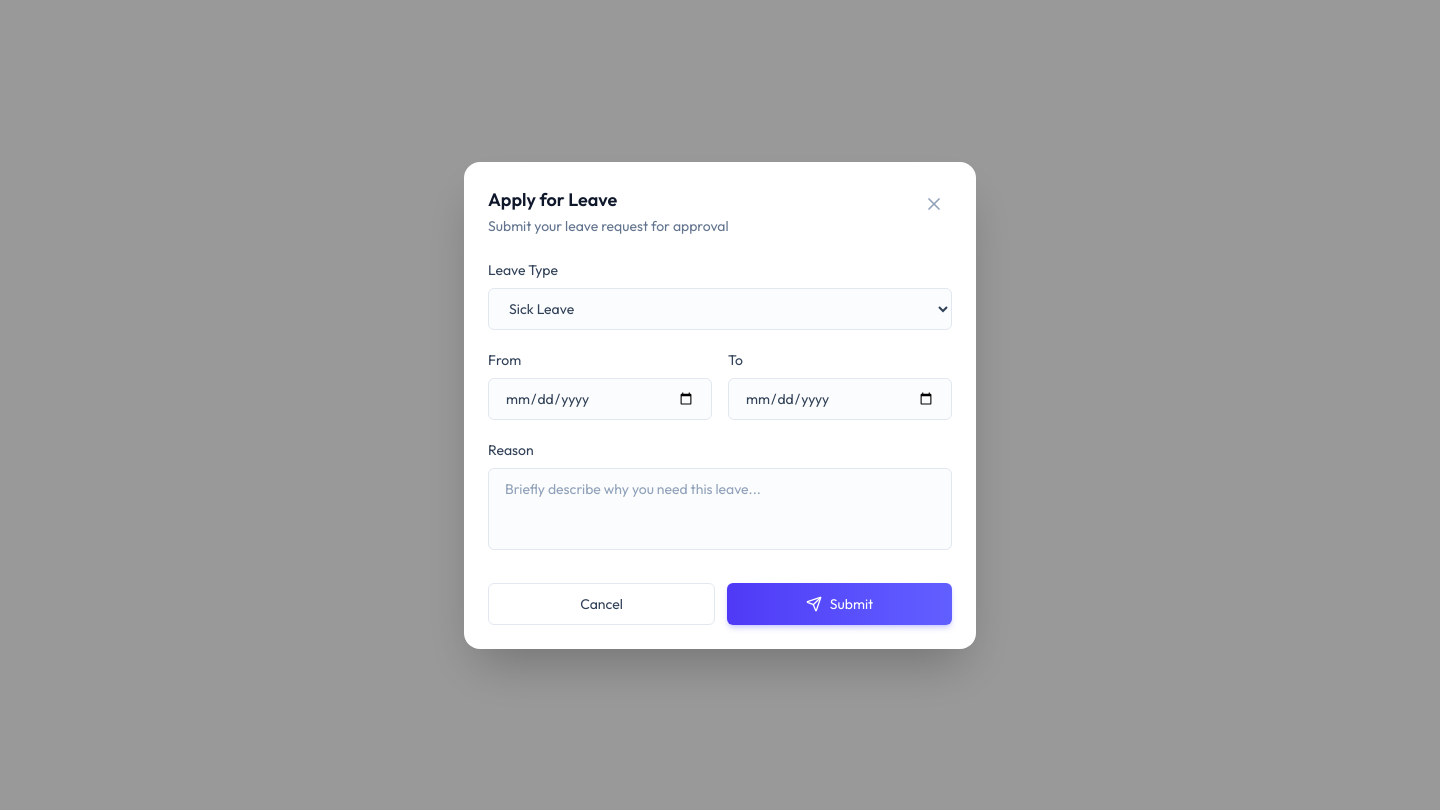
Test: ApplyLeaveModal › rejects a start date that is not in the future
The width and height of the screenshot is (1440, 810).
Type "2020-01-10" into the date field labelled "From". click: (600, 398)
box: [488,378,712,420]
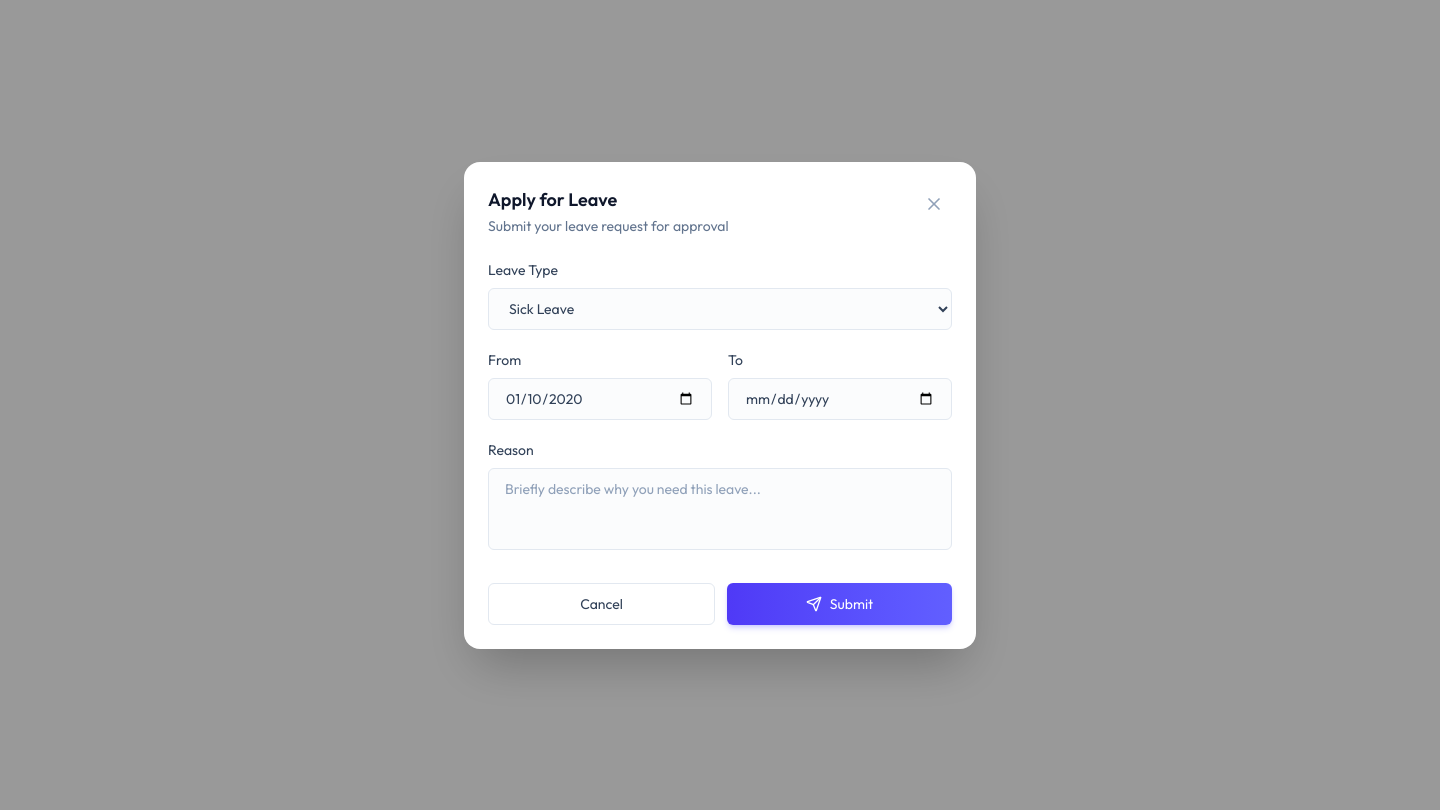
Type "2020-01-12" into the date field labelled "To". click: (840, 398)
box: [728,378,952,420]
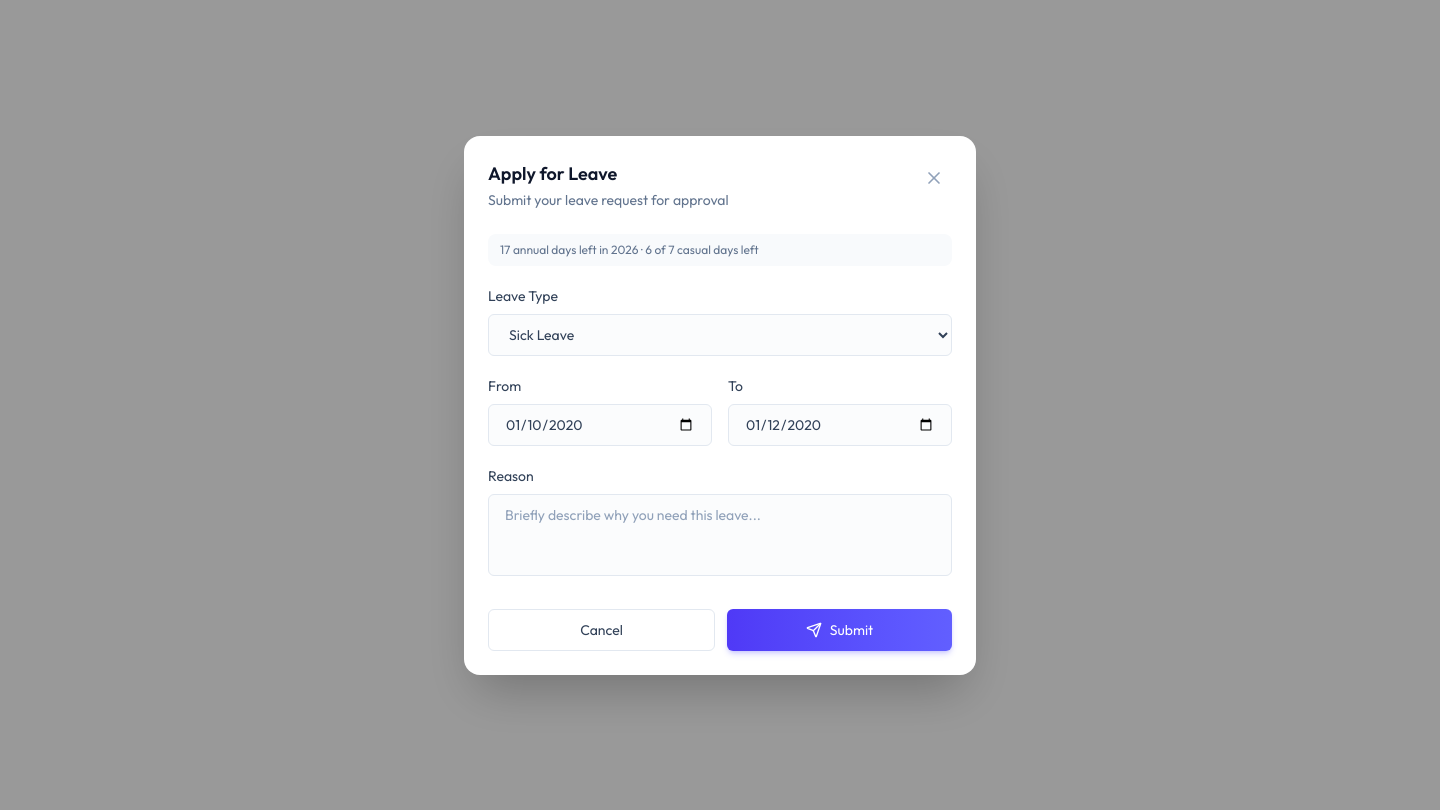
Type "Family trip" into the text box labelled "Reason". click: (720, 534)
box: [488,494,952,576]
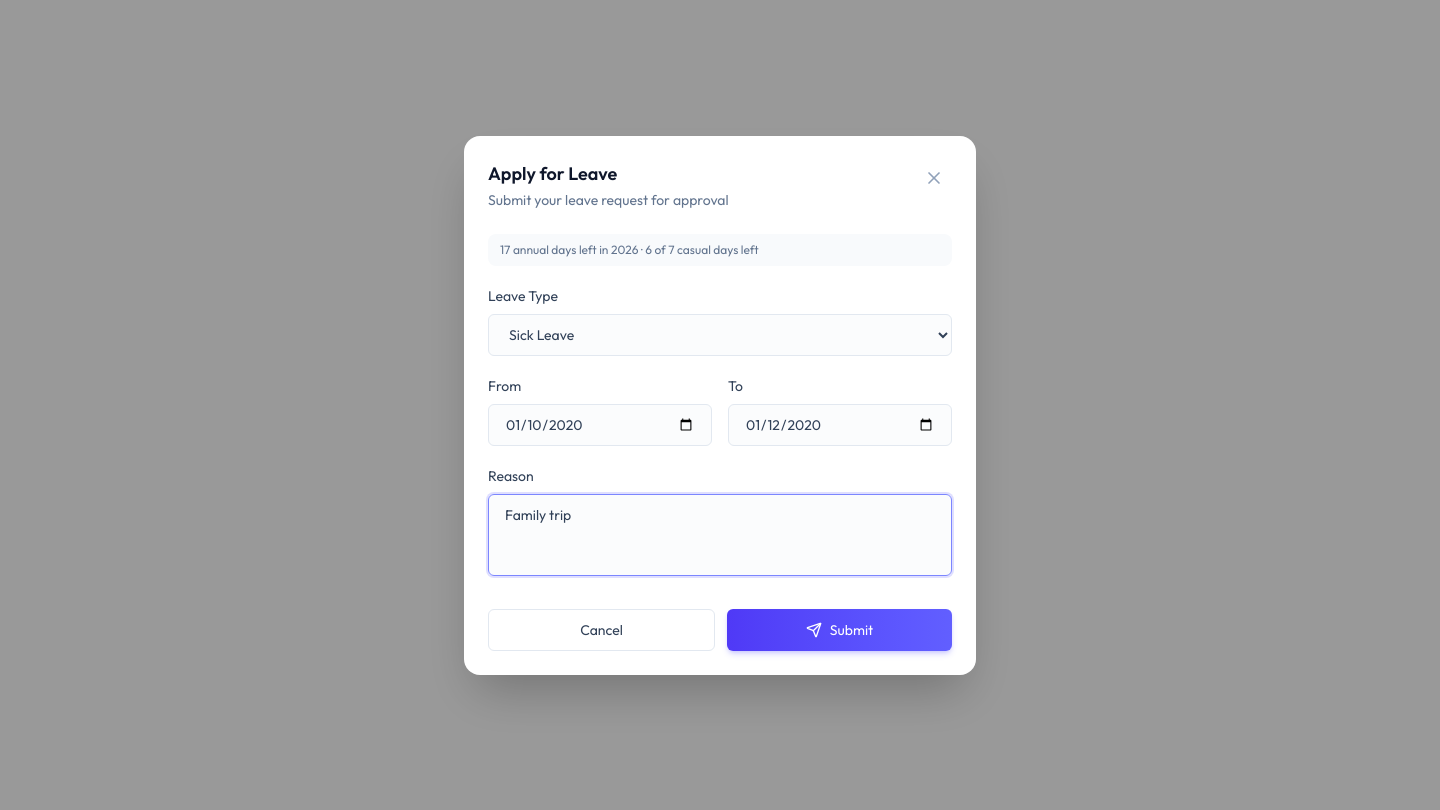
Click the button "Submit". click: (840, 630)
box: [727,608,952,650]
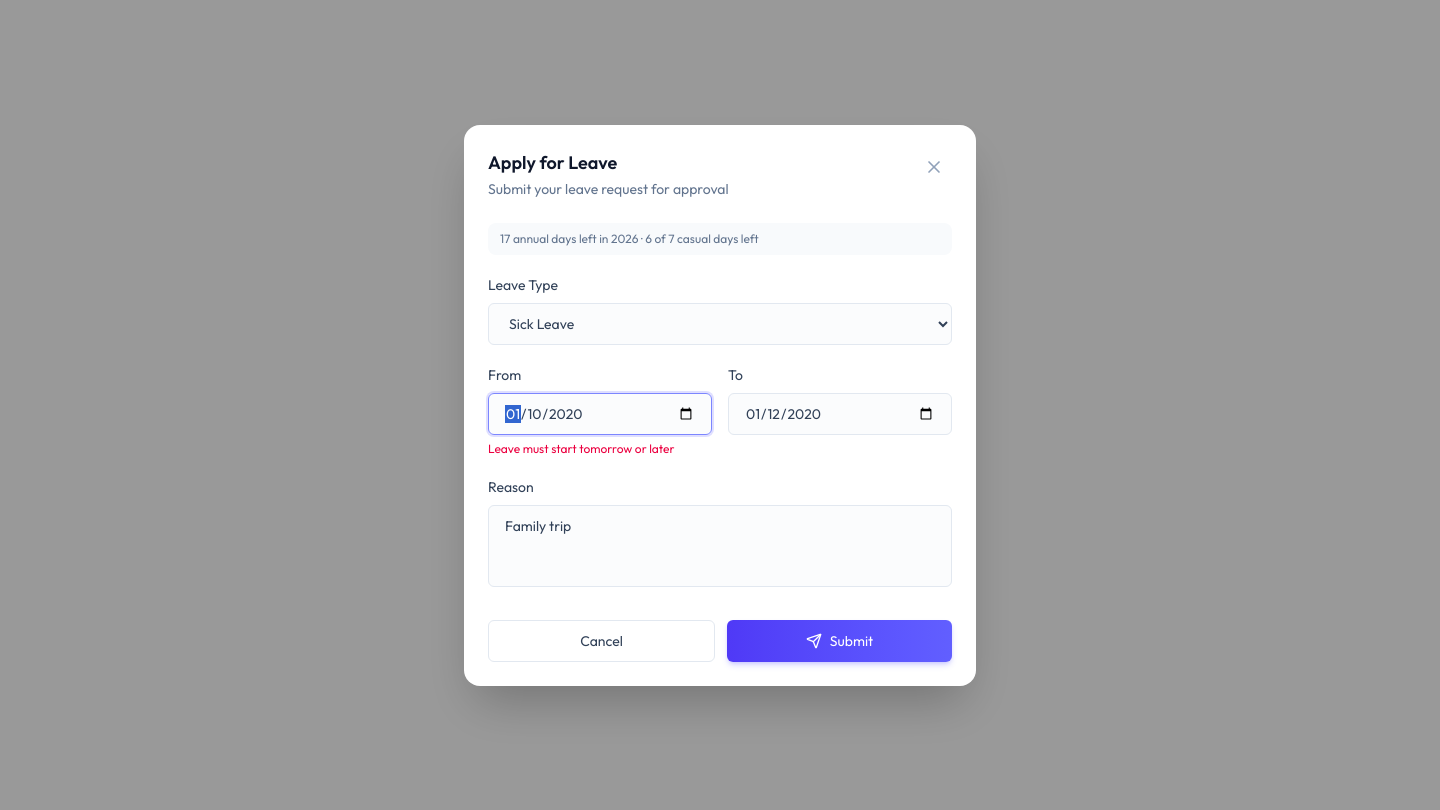
expect the text "Leave must start tomorrow or later" is shown: met, box [488,440,674,456]
